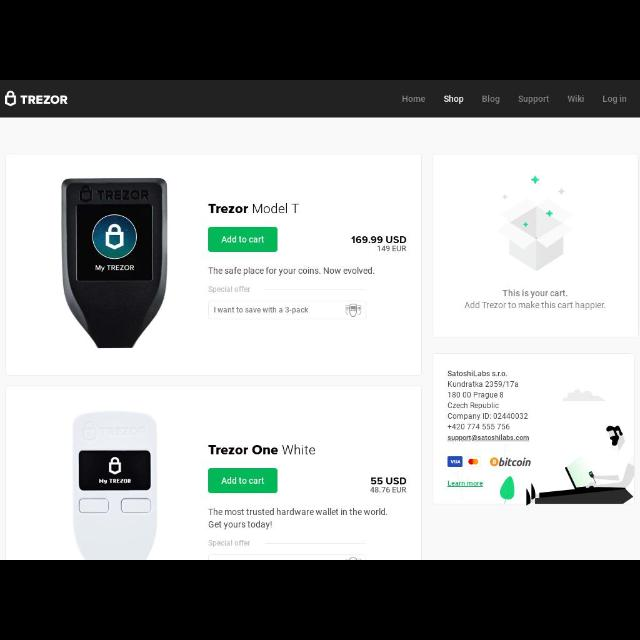icon: (342, 304, 364, 318)
image: (51, 162, 178, 348), (496, 414, 634, 518), (65, 406, 159, 558), (477, 164, 591, 276), (491, 457, 531, 468), (5, 88, 18, 110), (446, 454, 462, 468), (467, 457, 481, 467)
multitab: (386, 84, 634, 112)
text: (450, 370, 530, 442), (208, 506, 388, 516), (211, 266, 375, 276), (462, 300, 606, 310), (208, 200, 300, 213), (353, 237, 407, 253), (501, 284, 569, 296), (213, 306, 309, 314), (210, 520, 272, 530), (20, 94, 70, 106), (204, 286, 252, 294), (206, 539, 250, 547), (602, 92, 626, 104), (518, 94, 548, 102), (400, 95, 426, 104), (443, 95, 463, 103), (568, 94, 584, 104), (482, 96, 500, 104)
textbutton: (208, 227, 278, 253)
toolbar: (1, 82, 638, 118)
